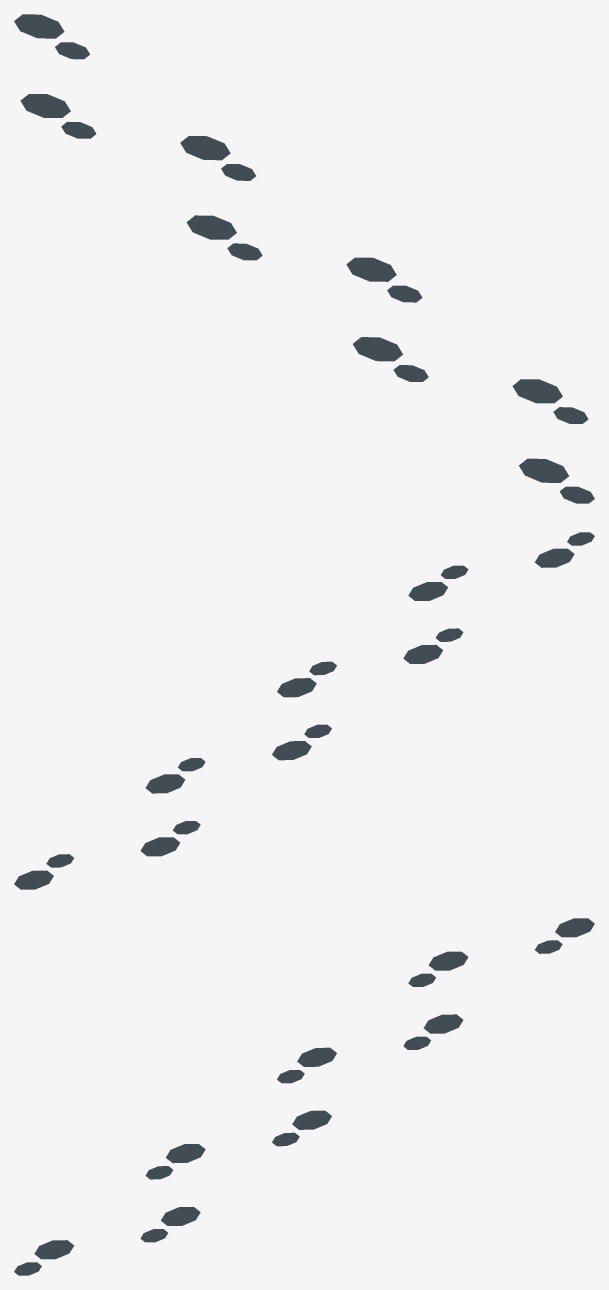
Rendered from decal_wet_prints.glb.
The picture shows the model from 3 angles, top to bottom: view 1: azimuth 30°, elevation 25°; view 2: azimuth 150°, elevation 25°; view 3: azimuth 330°, elevation 25°; orthographic projection. The views are drawn at different scales.
Visible parts, largest first — view 1: prints; view 2: prints; view 3: prints.
Part boxes in pixels (x1,y1,x2,y2): prints: (14,14,594,503); prints: (14,532,594,889); prints: (14,918,594,1275).
Bounding box in the file's own units: 0.36 × 0 × 3.48.
